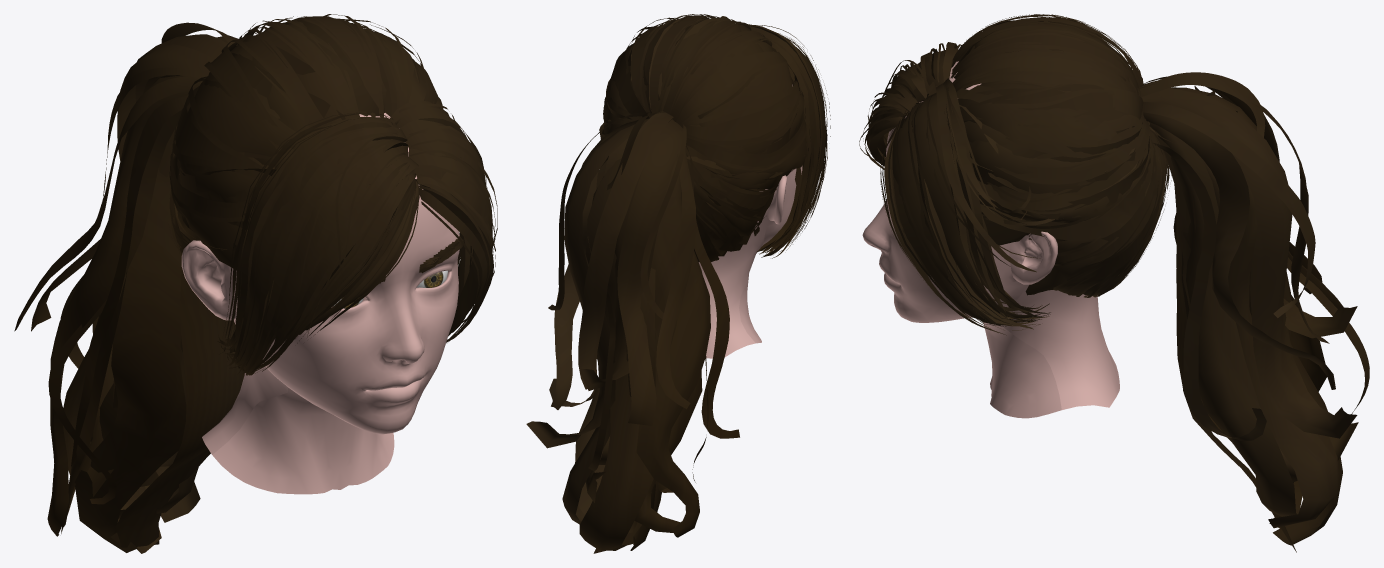
File: head.fbx
3 renders of one model, left to right at view 1: azimuth 30°, elevation 25°; view 2: azimuth 150°, elevation 25°; view 3: azimuth 270°, elevation 25°, orthographic. The views are drawn at different scales.
Visible parts, largest first — view 1: head; view 2: head; view 3: head.
Boxes of the visible parts, bbox=[...] form: head: bbox=[14, 14, 497, 553]; head: bbox=[526, 14, 830, 553]; head: bbox=[859, 14, 1369, 552].
Bounding box in the file's own units: 14.02 × 28.9 × 25.27.
